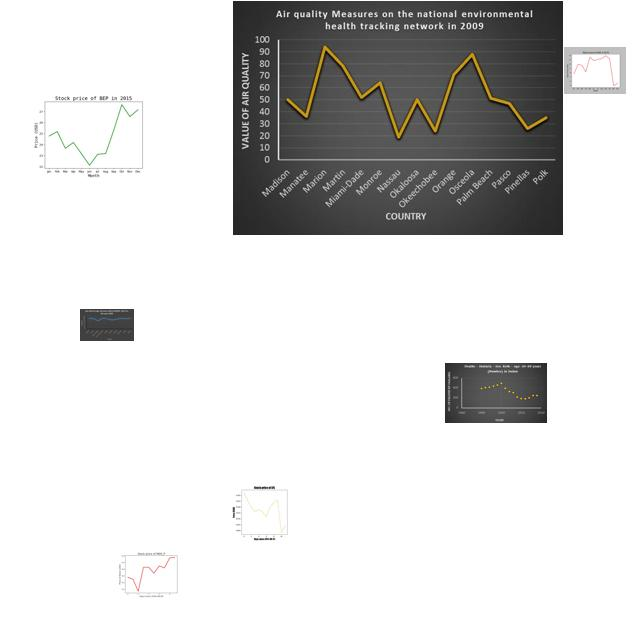Graph: (233, 1, 563, 235), (29, 87, 155, 182), (445, 363, 547, 423), (225, 483, 302, 541), (117, 549, 184, 599), (564, 47, 626, 94), (80, 309, 134, 341)
